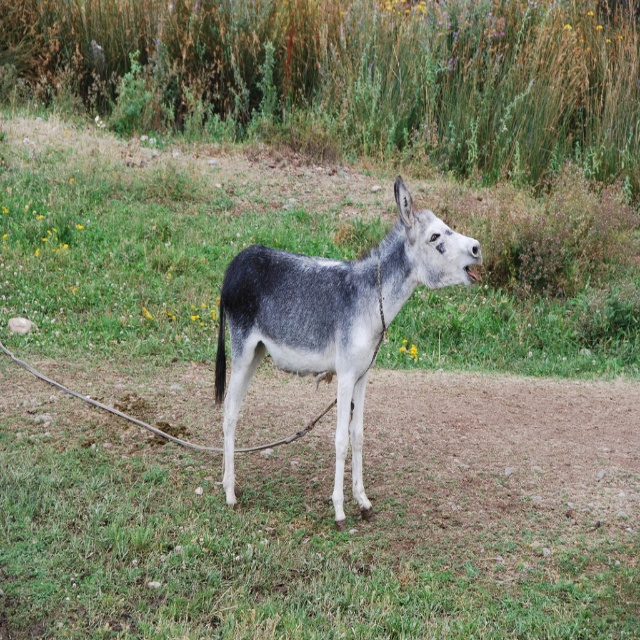Mule: (202, 153, 468, 522)
